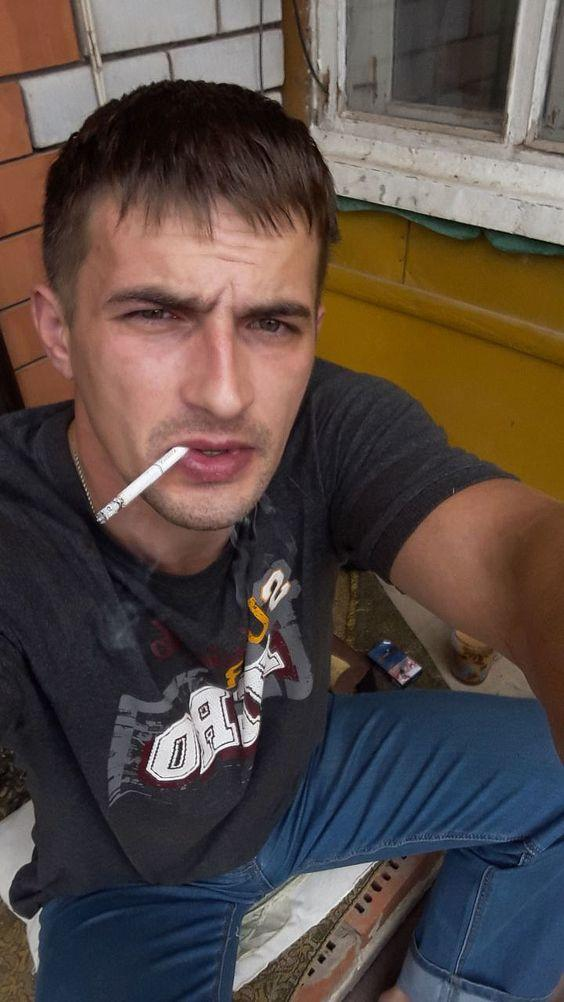cigarette: (96, 446, 191, 526)
